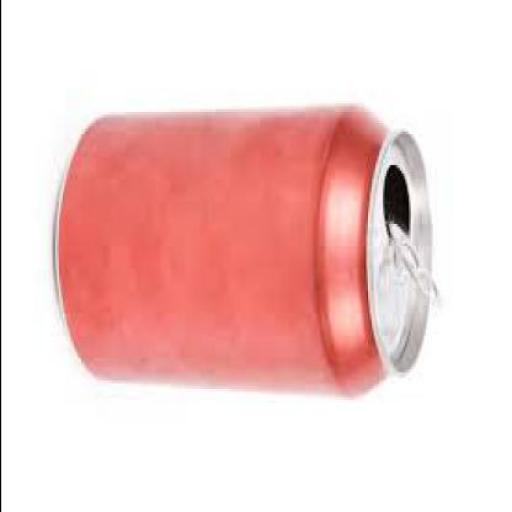metal: (52, 106, 434, 400)
